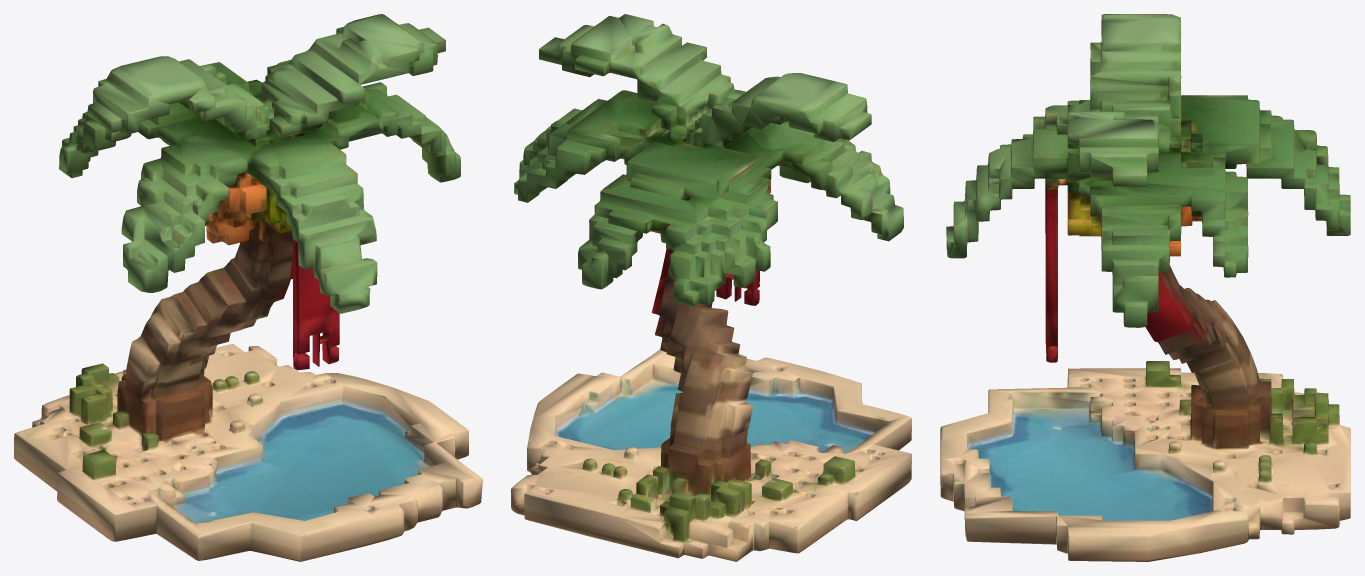
File: palm.glb
3 views of the same model, side by side, from view 1: azimuth 30°, elevation 25°; view 2: azimuth 150°, elevation 25°; view 3: azimuth 270°, elevation 25° (orthographic). The views are drawn at different scales.
Visible parts, largest first — view 1: node_0; view 2: node_0; view 3: node_0.
Part boxes in pixels (left/top/right/bottom): node_0: left=14, top=14, right=482, bottom=561; node_0: left=511, top=14, right=911, bottom=561; node_0: left=940, top=14, right=1350, bottom=561.
Bounding box in the file's own units: 0.7682 × 0.8234 × 0.754.
Materials: 1 (1 with a texture image).
